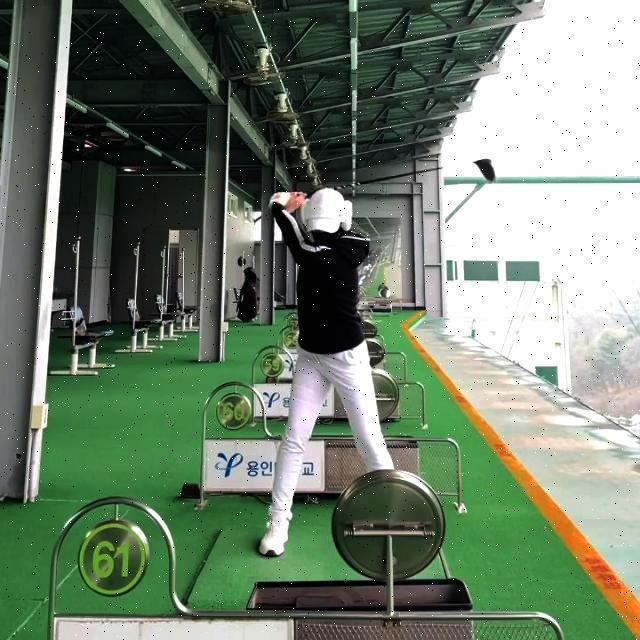ClubHead: (478, 159, 497, 185)
